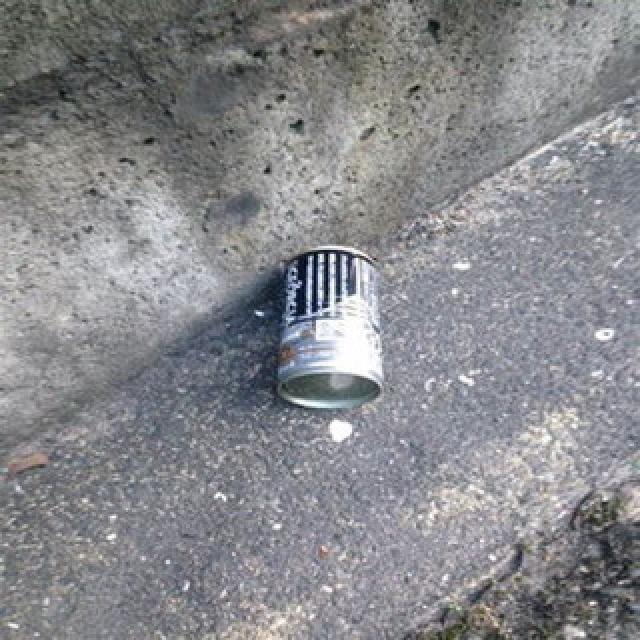can: (268, 250, 389, 408)
